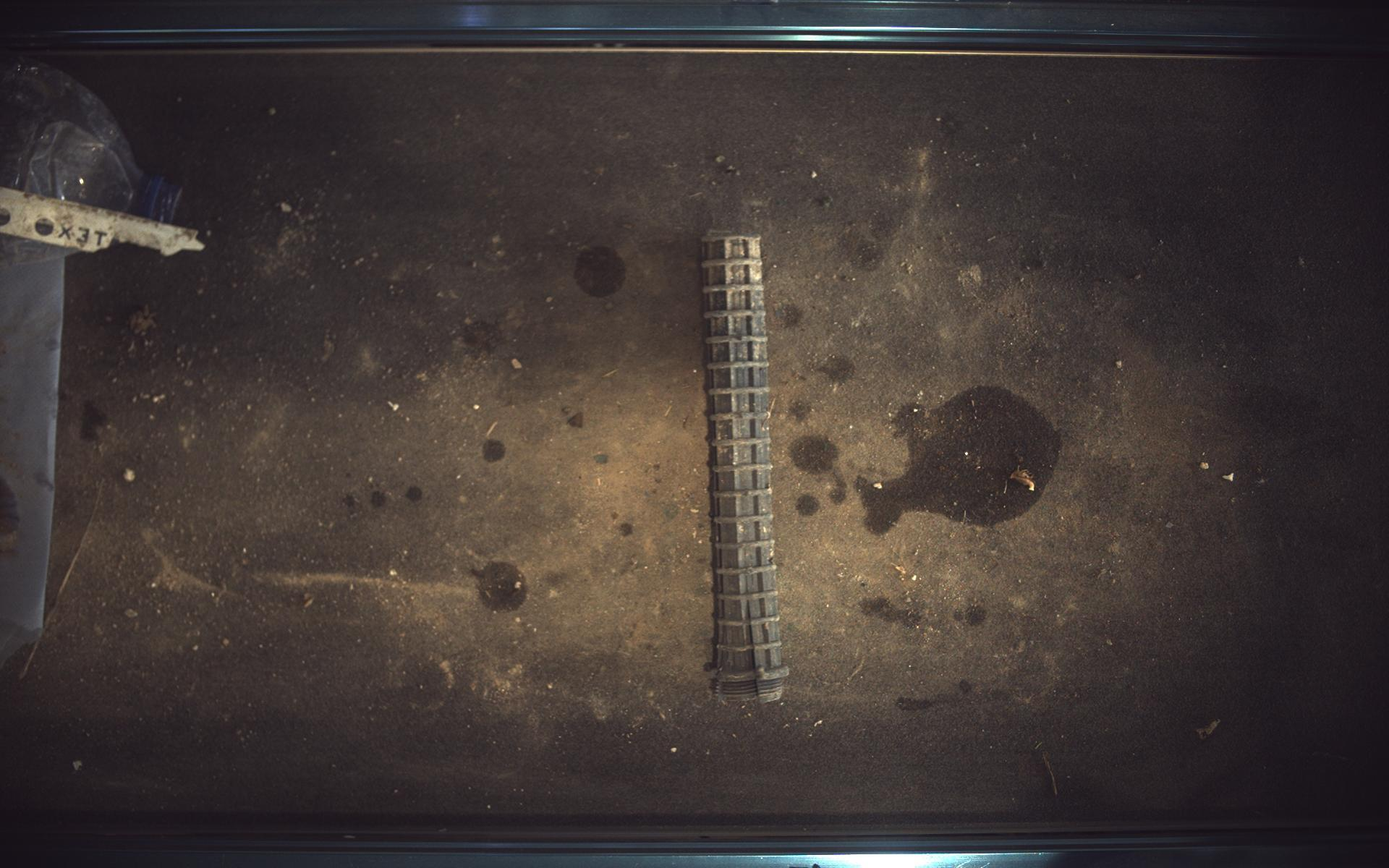plastic: (702, 231, 789, 703)
